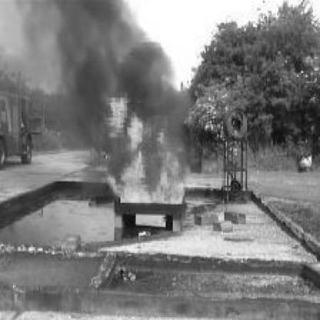Smoke: (12, 0, 191, 124)
